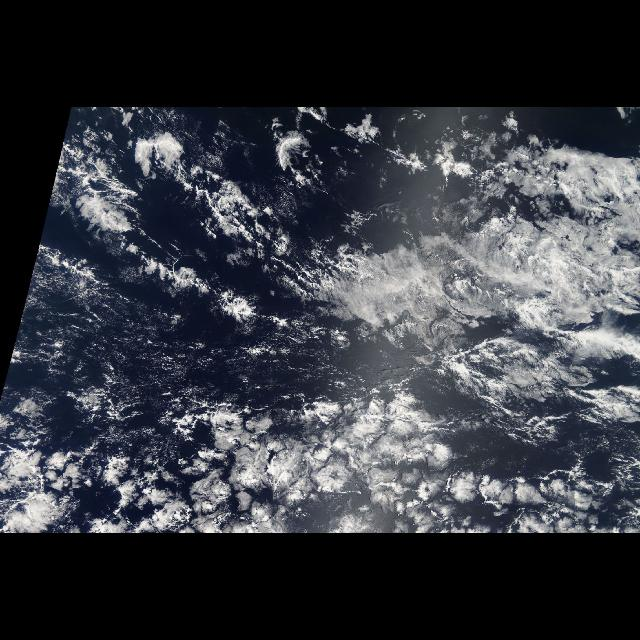Flower: (2, 384, 634, 530)
